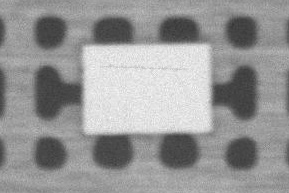DIE_CRACK: (150, 44, 279, 46)
